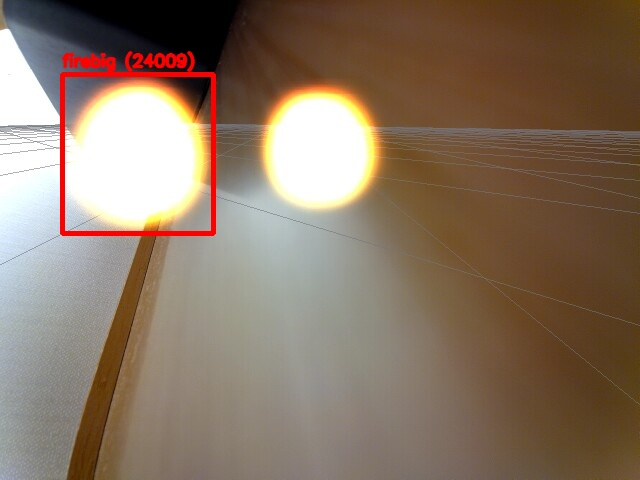firebig: (62, 74, 213, 233)
